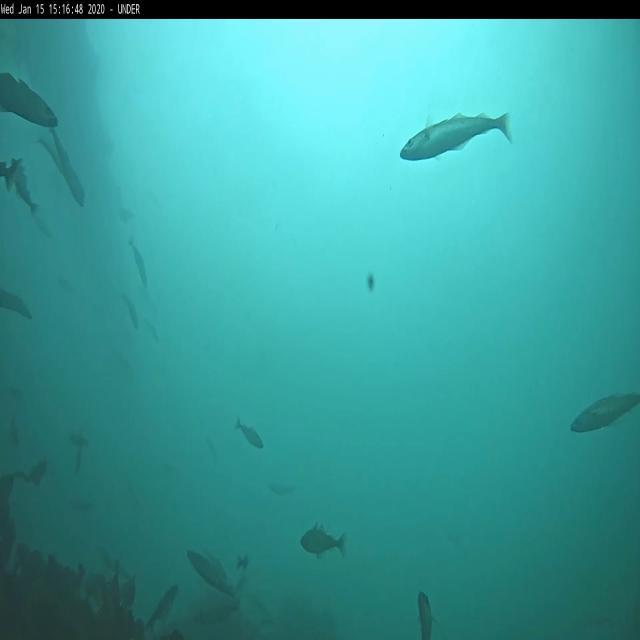fish: (399, 113, 511, 161), (0, 71, 60, 129), (569, 395, 639, 436), (50, 124, 84, 201), (186, 553, 236, 599), (10, 160, 40, 213), (146, 585, 180, 631), (300, 524, 348, 556), (128, 233, 148, 290), (416, 590, 434, 638), (234, 421, 264, 446), (122, 294, 138, 330), (0, 160, 19, 190), (268, 481, 296, 494), (147, 317, 158, 342)
